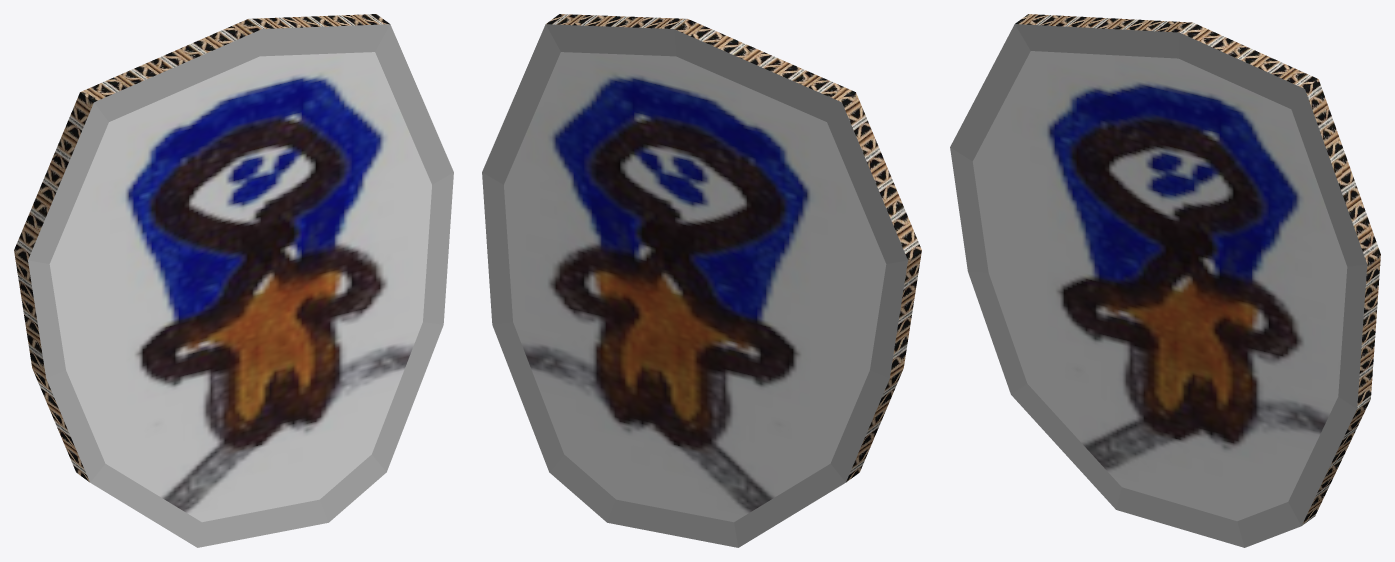
Rendered from Papu.fbx.
The picture shows the model from 3 angles, left to right: view 1: azimuth 30°, elevation 25°; view 2: azimuth 150°, elevation 25°; view 3: azimuth 330°, elevation 25°; orthographic projection. The views are drawn at different scales.
Parts seen in each view (by area): view 1: Papu; view 2: Papu; view 3: Papu.
Boxes of the visible parts, x1,y1,x2,y2 form: Papu: [14, 14, 453, 547]; Papu: [482, 14, 921, 547]; Papu: [950, 14, 1380, 547].
Size of the model in its own units: 176 by 202 by 10.
